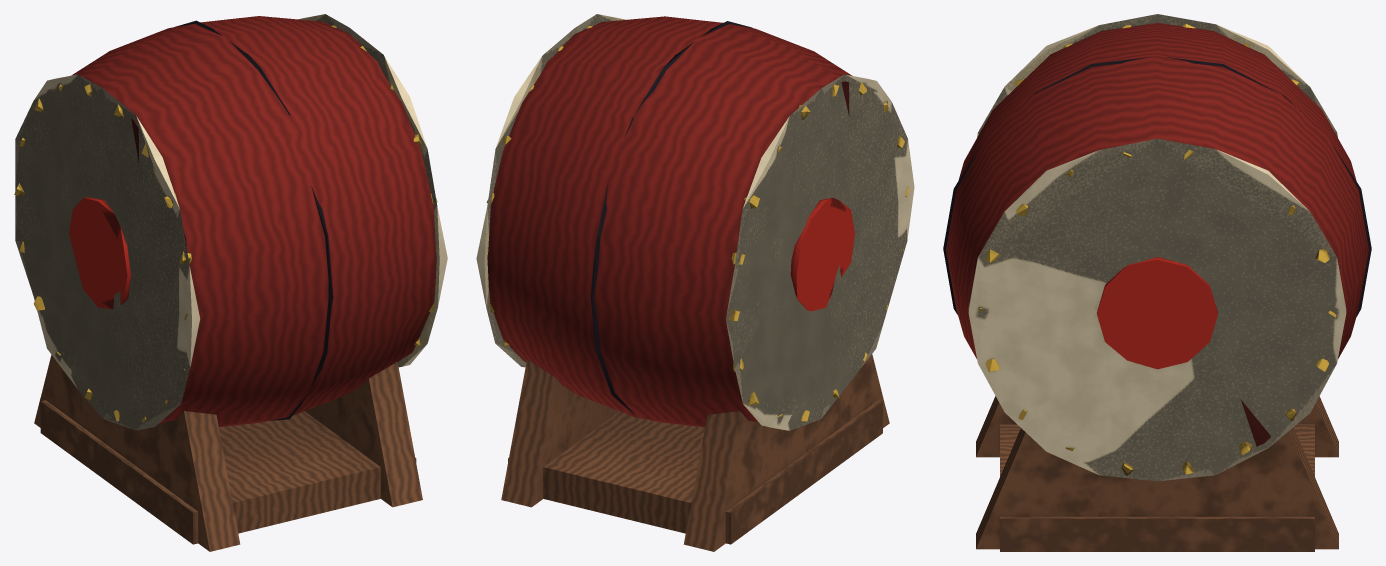
Rendered from taiko_drum.fbx.
3 views of the same model, side by side, from view 1: azimuth 30°, elevation 25°; view 2: azimuth 150°, elevation 25°; view 3: azimuth 270°, elevation 25° (orthographic). The views are drawn at different scales.
Parts seen in each view (by area): view 1: taiko_drum; view 2: taiko_drum; view 3: taiko_drum.
Part boxes in pixels (box(x1,y1,x2,y2)): taiko_drum: box(14, 14, 447, 551); taiko_drum: box(476, 14, 914, 551); taiko_drum: box(943, 14, 1371, 551).
Bounding box in the file's own units: 257 × 400 × 354.
1 material, 1 textured.
